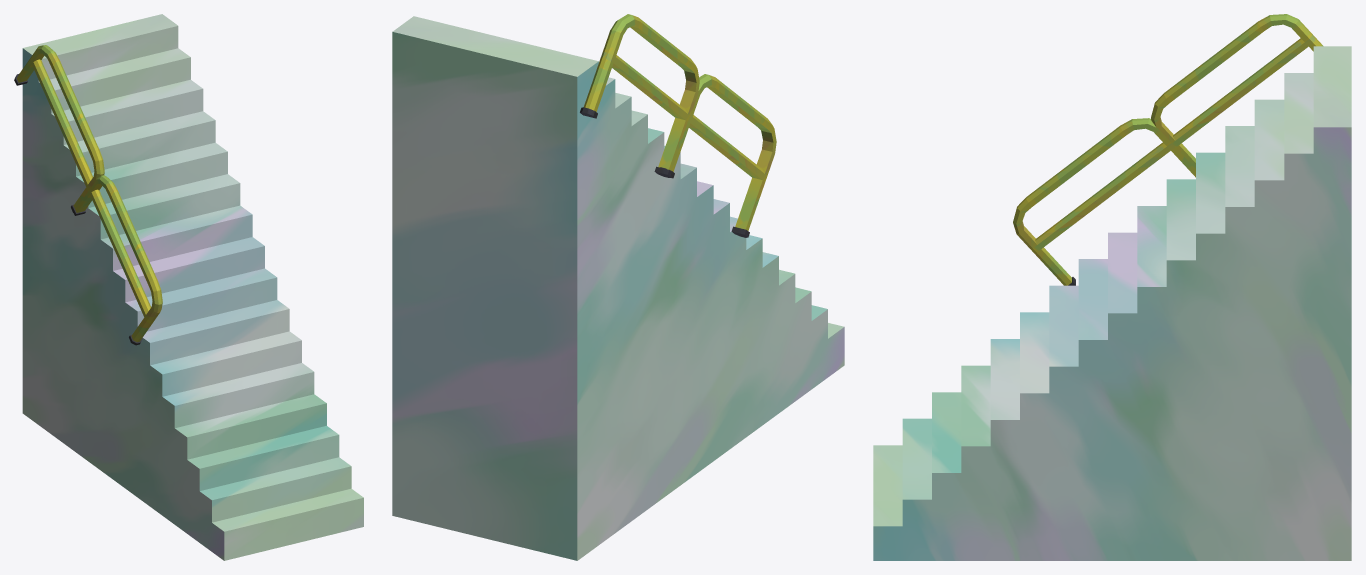
File: Stairs_Five_Rail.glb
The picture shows the model from 3 angles, left to right: view 1: azimuth 30°, elevation 25°; view 2: azimuth 150°, elevation 25°; view 3: azimuth 270°, elevation 25°; orthographic projection. The views are drawn at different scales.
Parts seen in each view (by area): view 1: Stairs_Five_Rail; view 2: Stairs_Five_Rail; view 3: Stairs_Five_Rail.
Boxes of the visible parts, left/top/right/bottom form: Stairs_Five_Rail: left=14, top=14, right=363, bottom=560; Stairs_Five_Rail: left=392, top=14, right=844, bottom=560; Stairs_Five_Rail: left=873, top=14, right=1351, bottom=560.
Size of the model in its own units: 2.15 by 5.33 by 5.
2 materials, 2 textured.
